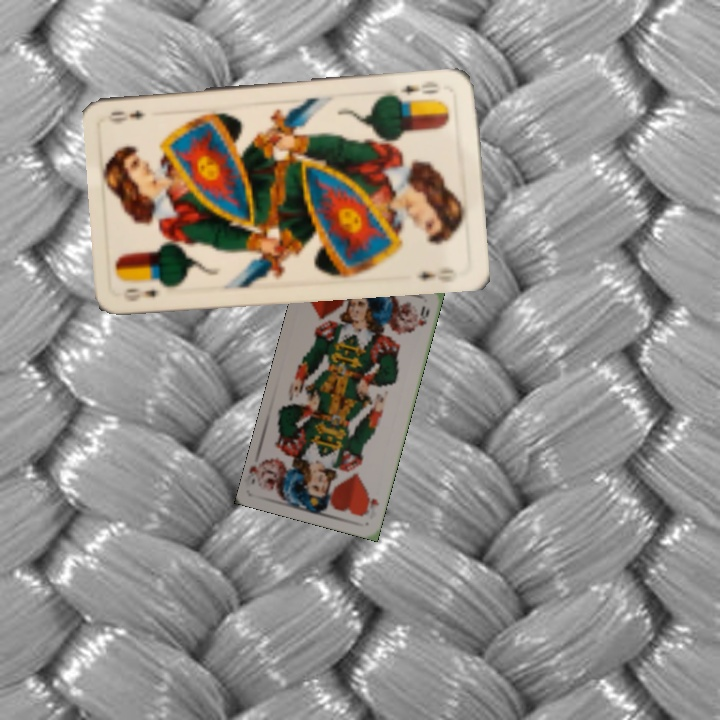EO: (119, 284, 159, 305), (397, 81, 444, 98)
HO: (359, 488, 382, 522)
